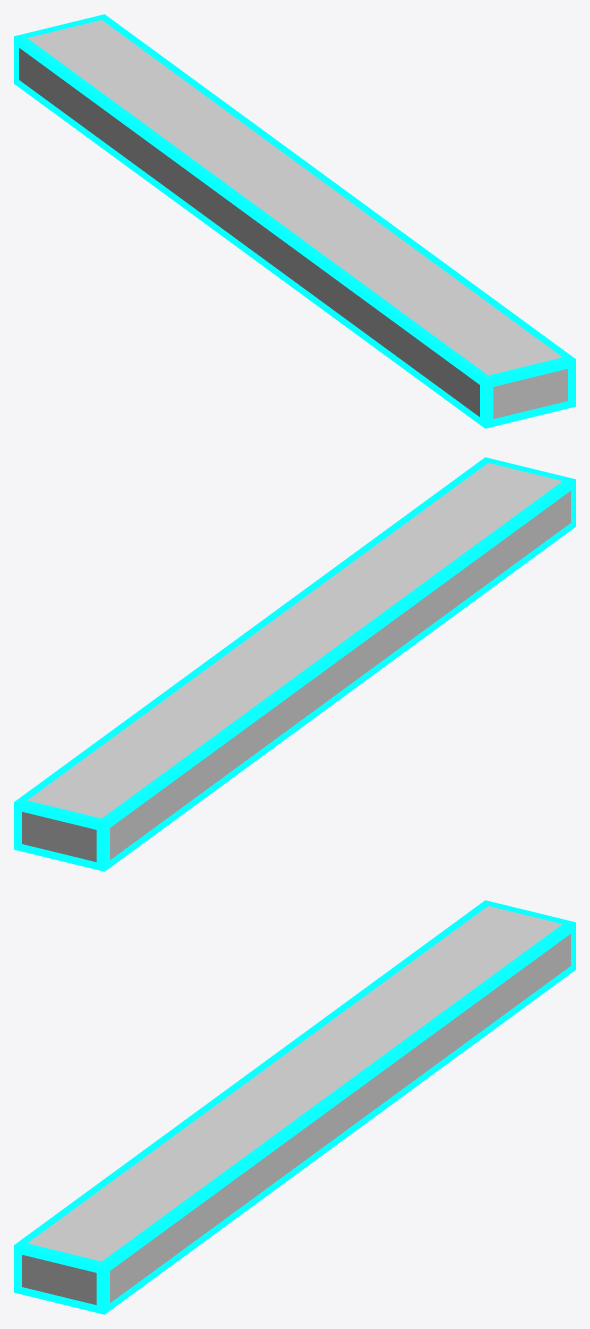
Rendered from SM_Street.fbx.
3 views of the same model, one above another, from view 1: azimuth 30°, elevation 25°; view 2: azimuth 150°, elevation 25°; view 3: azimuth 330°, elevation 25° (orthographic).
Parts seen in each view (by area): view 1: SM_Street; view 2: SM_Street; view 3: SM_Street.
Boxes of the visible parts, x1,y1,x2,y2 form: SM_Street: (14, 14, 575, 428); SM_Street: (14, 457, 575, 871); SM_Street: (14, 900, 575, 1314).
Size of the model in its own units: 100 by 50 by 900.
